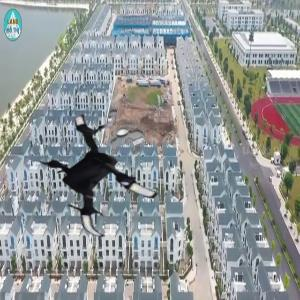drone: (26, 103, 164, 241)
